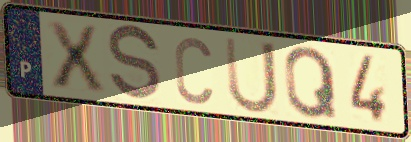4: (348, 53, 391, 125)
C: (172, 34, 215, 107)
Q: (281, 44, 340, 121)
S: (105, 23, 163, 106)
U: (222, 34, 281, 116)
X: (43, 19, 108, 95)
